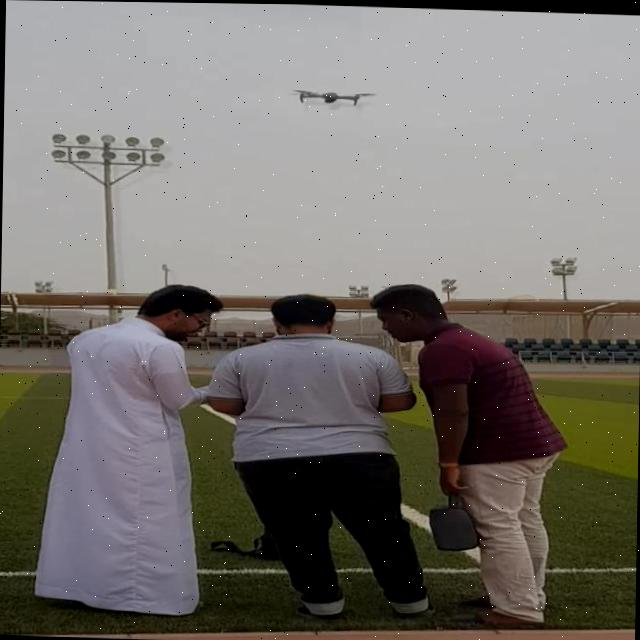drone: (285, 82, 379, 114)
